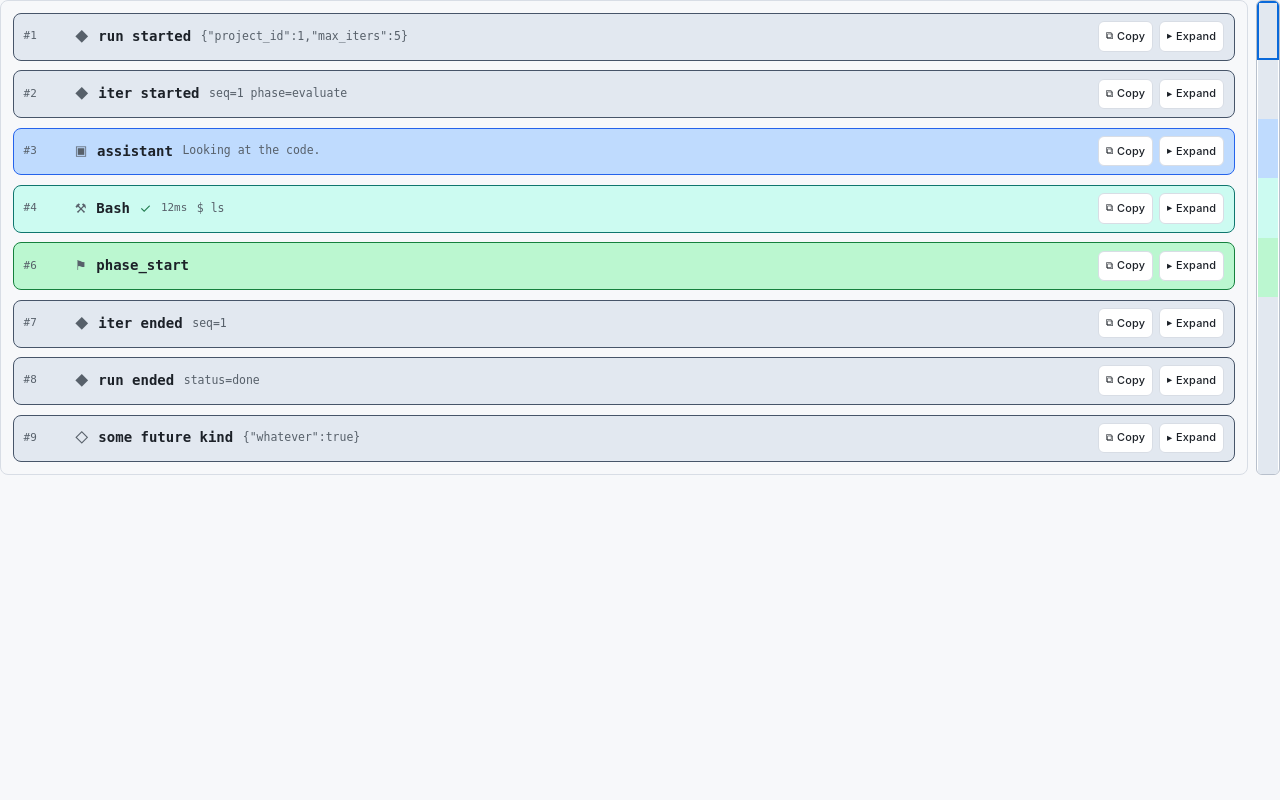
Test: TimelinePane › renders all mixed event types readably
Click the button with test id "row-header-" at [113, 208], box [14,186,1234,232]
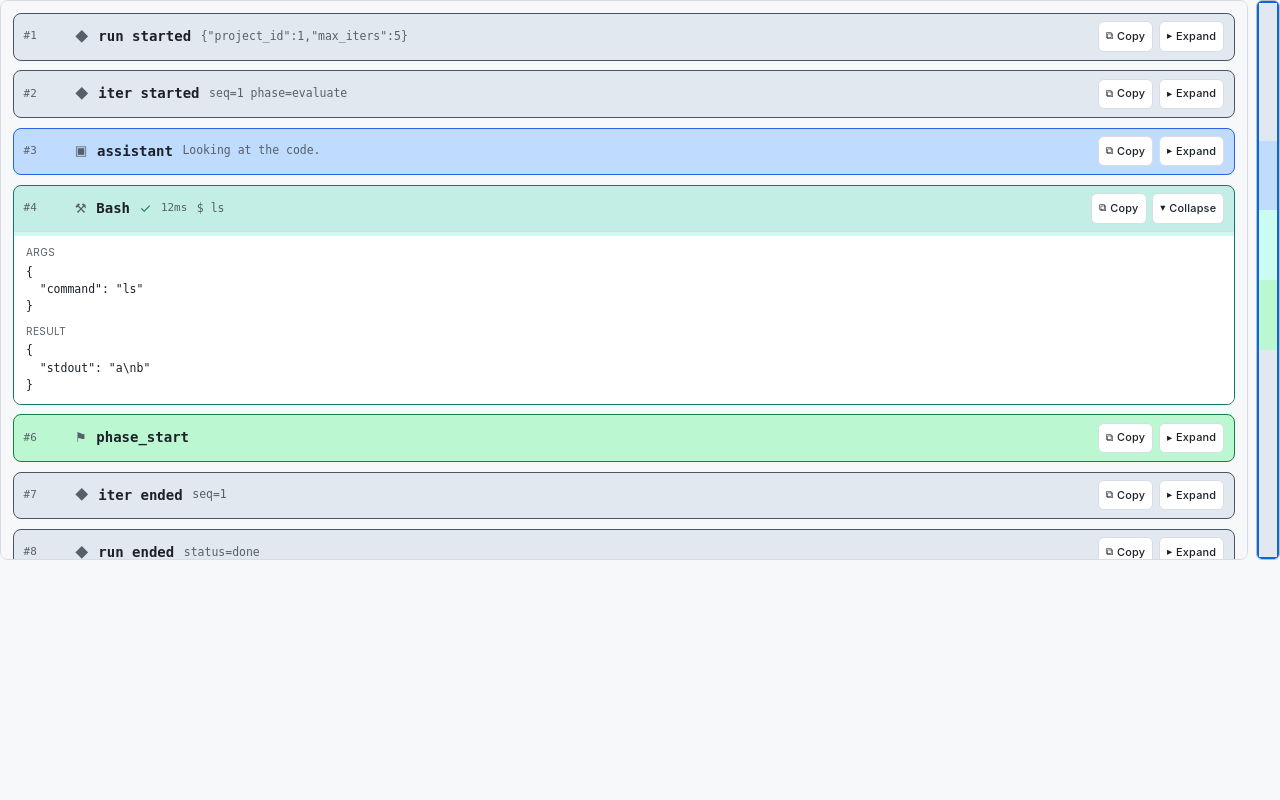
Click the button with test id "row-header-" at [143, 437], box [14,415,1234,461]
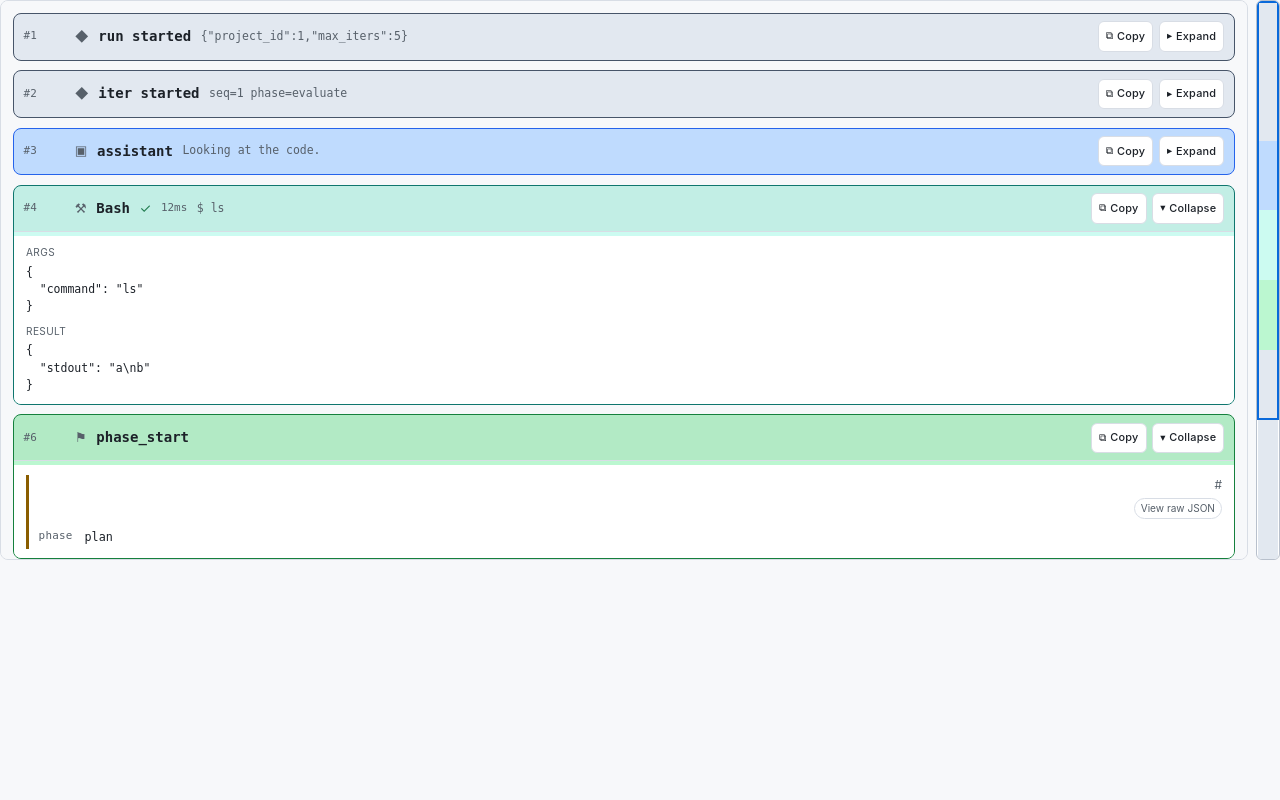
Check: the number of elements with test id "tool-call-card" is 1, box [26,246,150,392]
Check: the element with test id "signal-card" is shown, box [26,475,1222,548]
